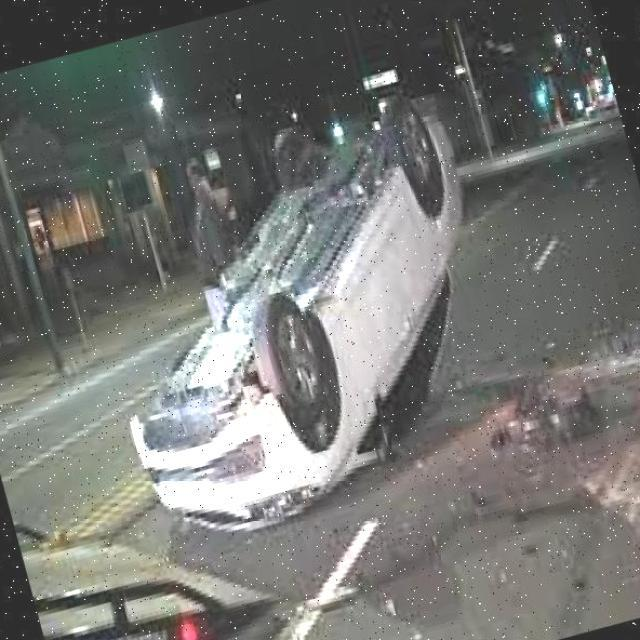accident: (58, 88, 538, 561)
